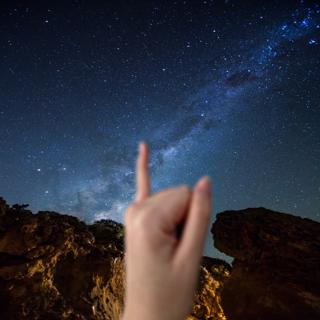Fine: (107, 140, 223, 313)
